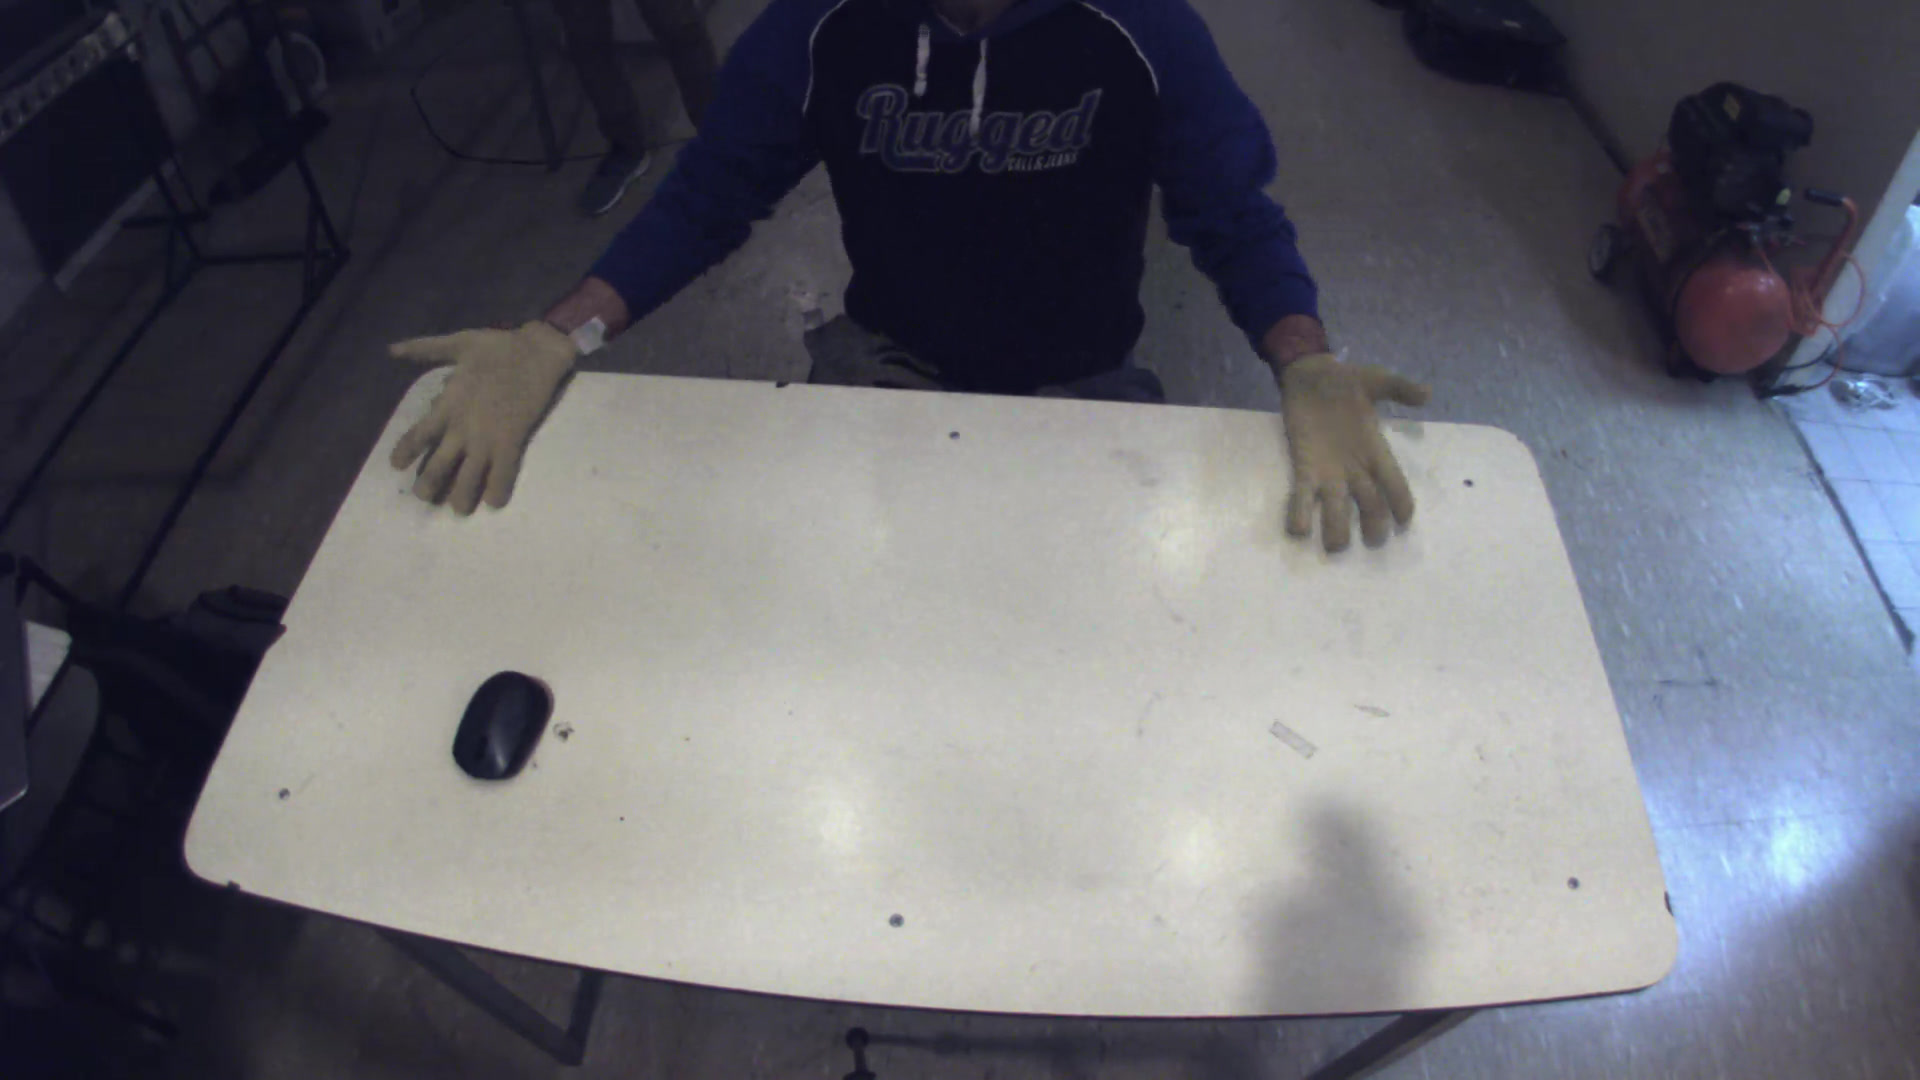hand: (363, 301, 589, 520), (1274, 342, 1447, 556)
